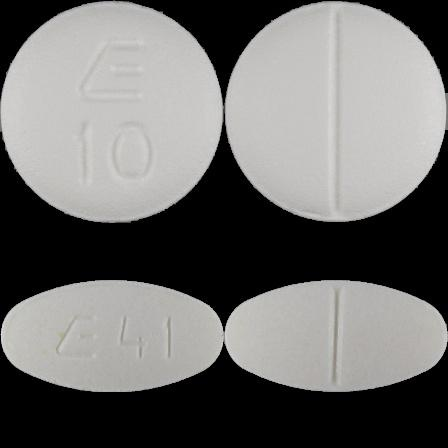0185-0010: (0, 0, 224, 224)
